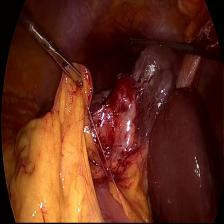Grasper: (26, 14, 86, 94), (124, 27, 150, 48)
